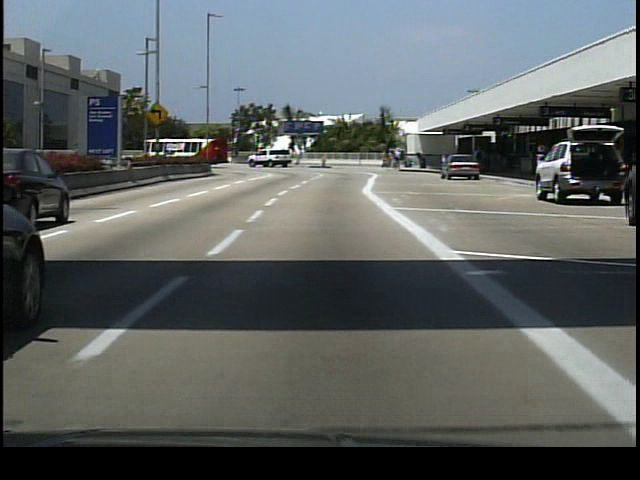person: (472, 149, 488, 179), (393, 147, 403, 175)
